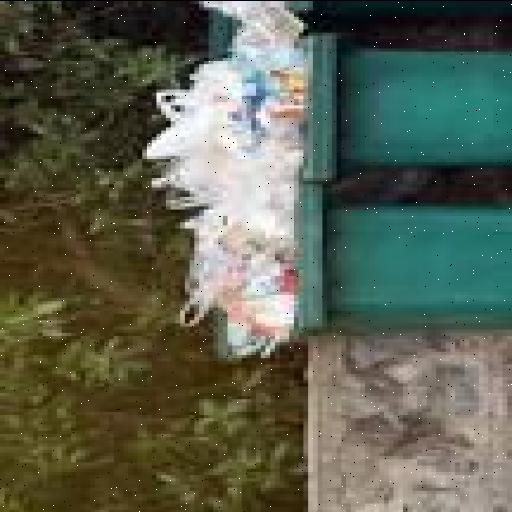poubelle_pleine: (109, 0, 512, 234), (106, 180, 512, 360)
